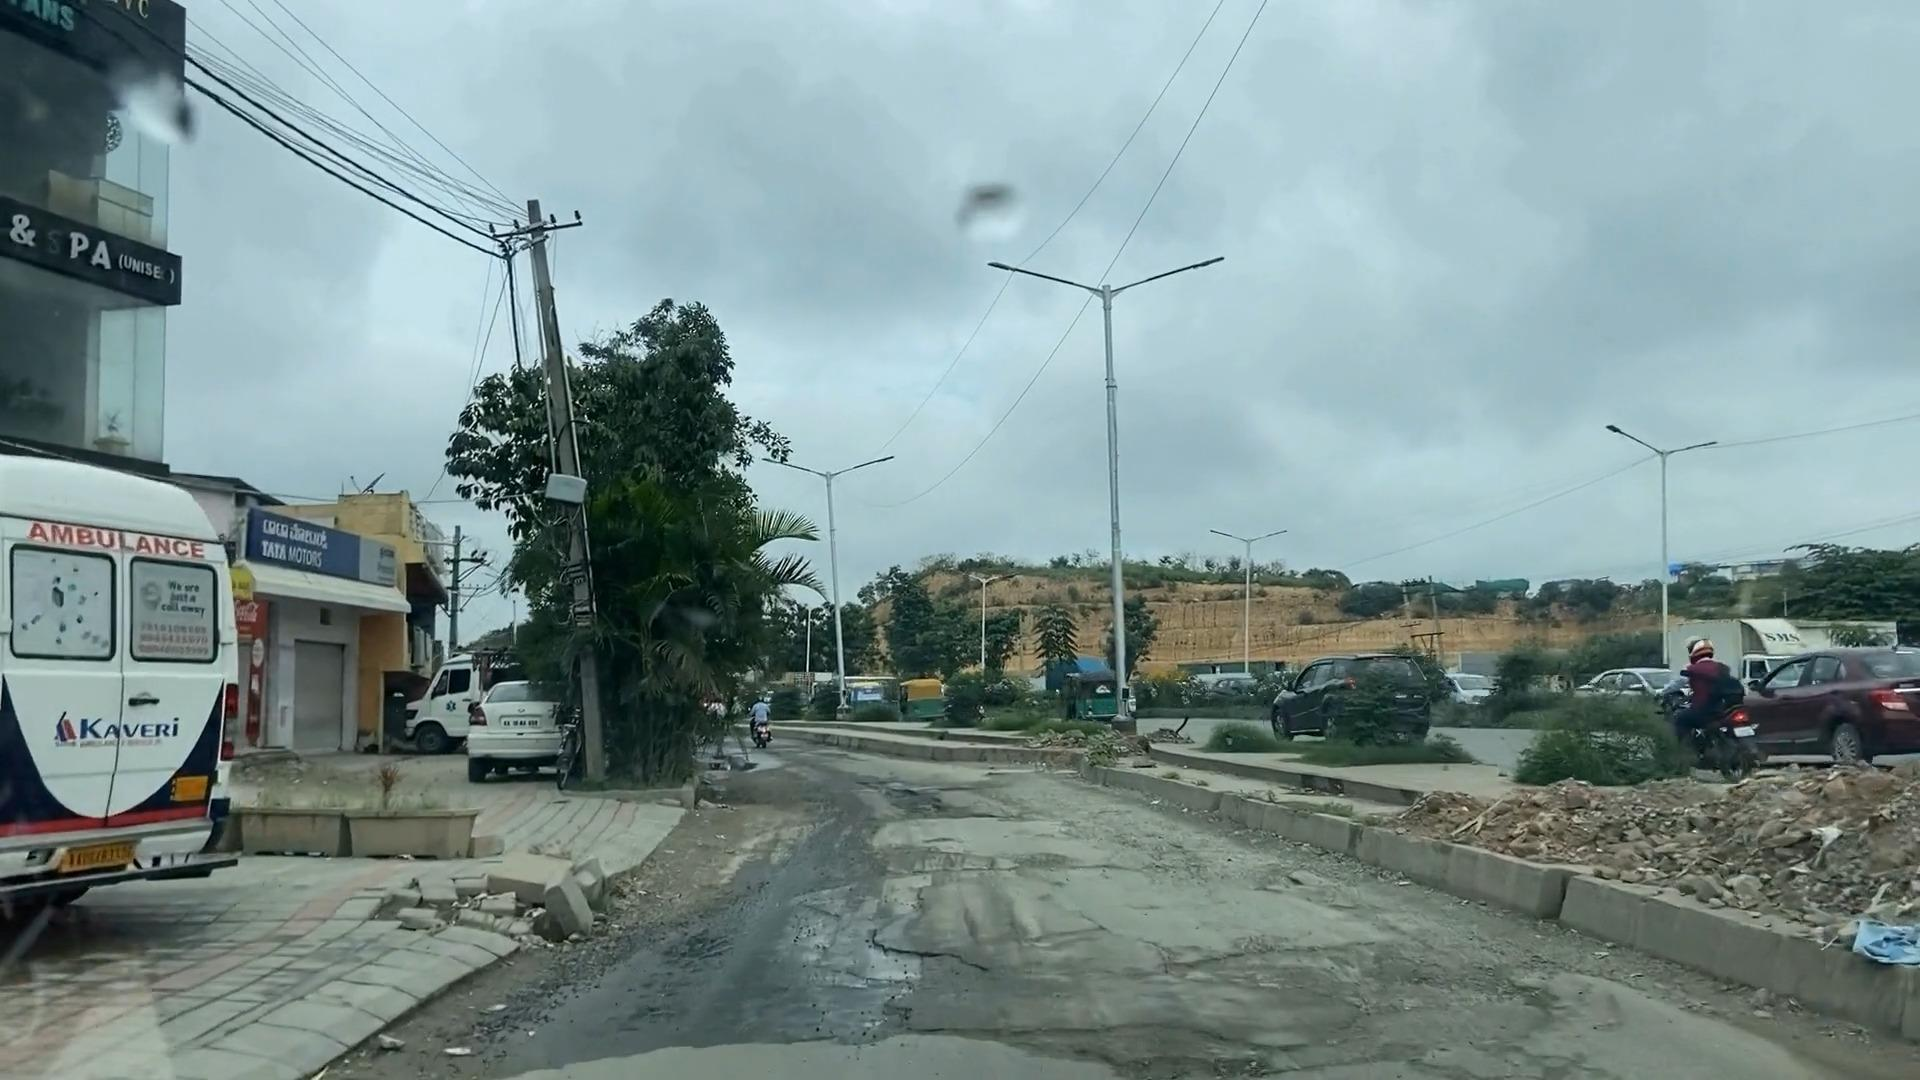RoadDamages: (1017, 936, 1606, 1080), (713, 873, 955, 1059)
